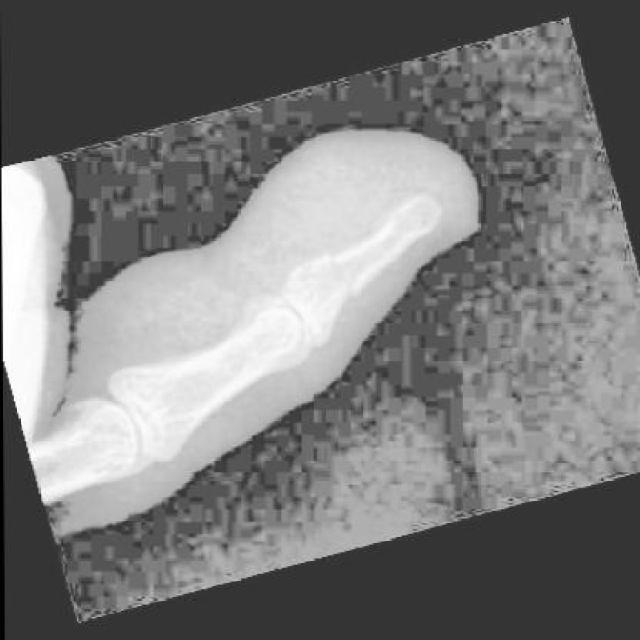Fracture: (316, 246, 367, 309)
